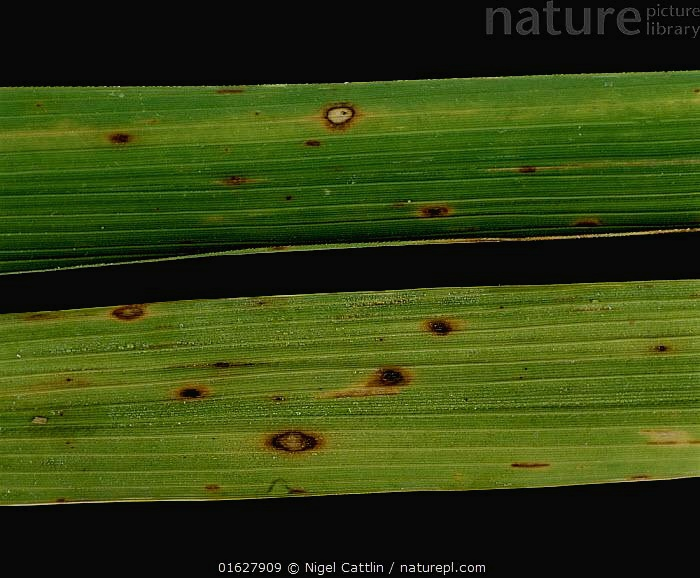Bacterial_Leaf_Blight: (320, 351, 433, 406), (252, 422, 351, 464), (403, 184, 473, 226), (412, 313, 476, 356), (154, 373, 223, 409), (95, 293, 161, 325), (636, 330, 682, 373), (319, 93, 370, 130), (97, 116, 141, 157), (209, 169, 280, 192), (505, 456, 566, 480), (10, 408, 60, 428), (191, 480, 242, 496), (509, 159, 541, 182), (207, 85, 256, 98), (565, 215, 612, 228), (299, 133, 330, 148)
